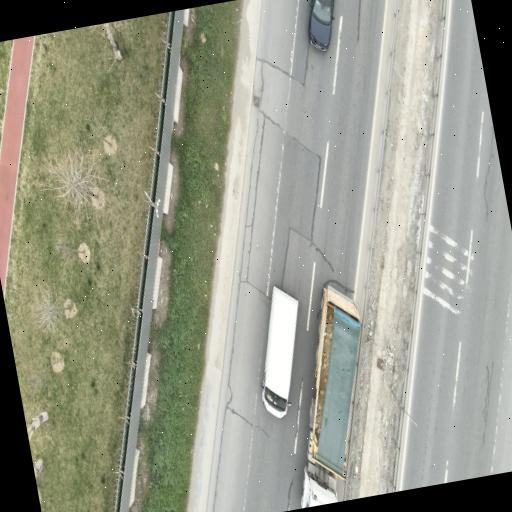car: (261, 286, 297, 417), (308, 0, 333, 50)
truck: (301, 286, 360, 507)
